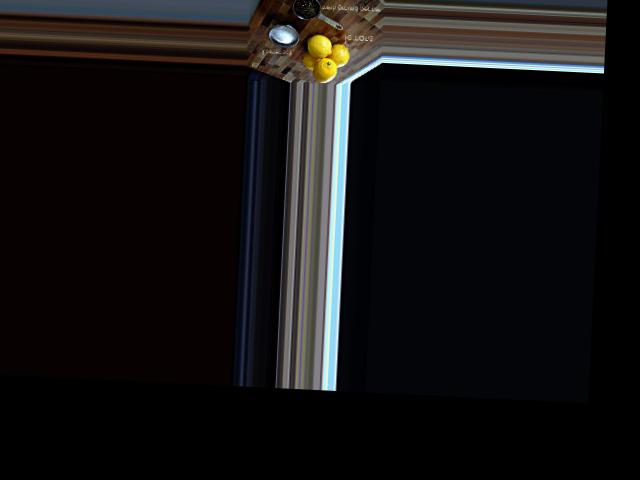lemon: (299, 50, 320, 68)
